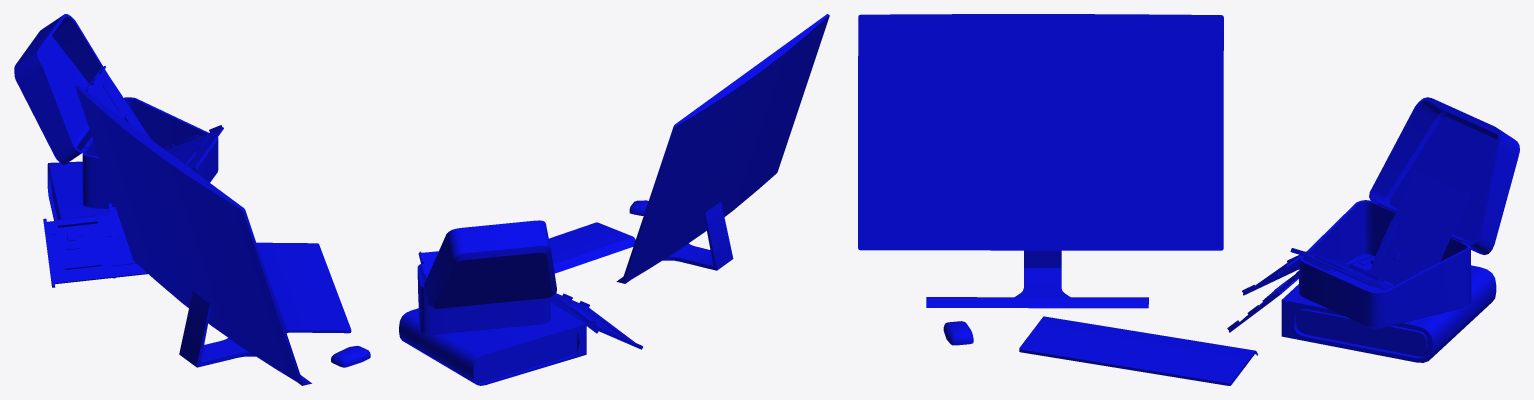
File: ClutterPile_6.FBX
3 renders of one model, left to right at view 1: azimuth 30°, elevation 25°; view 2: azimuth 150°, elevation 25°; view 3: azimuth 270°, elevation 25°, orthographic. The views are drawn at different scales.
Visible parts, largest first — view 1: ClutterPile_6; view 2: ClutterPile_6; view 3: ClutterPile_6.
Boxes of the visible parts, x1,y1,x2,y2 form: ClutterPile_6: (14, 14, 370, 385); ClutterPile_6: (399, 14, 829, 385); ClutterPile_6: (858, 14, 1519, 385).
Size of the model in its own units: 13.71 by 11.75 by 28.71.
